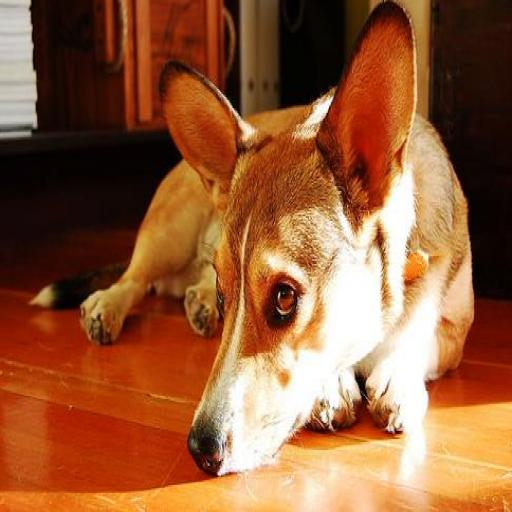dog_face: (159, 38, 425, 460)
